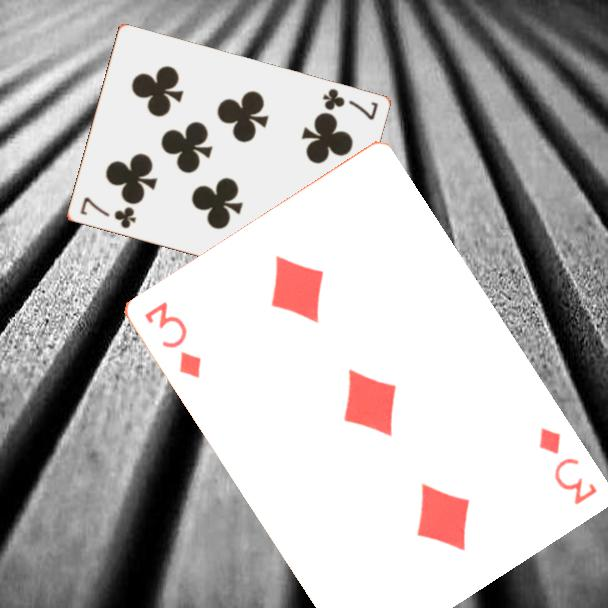c07: (76, 193, 139, 232), (319, 85, 381, 123)
d03: (534, 423, 600, 508), (139, 298, 204, 381)
